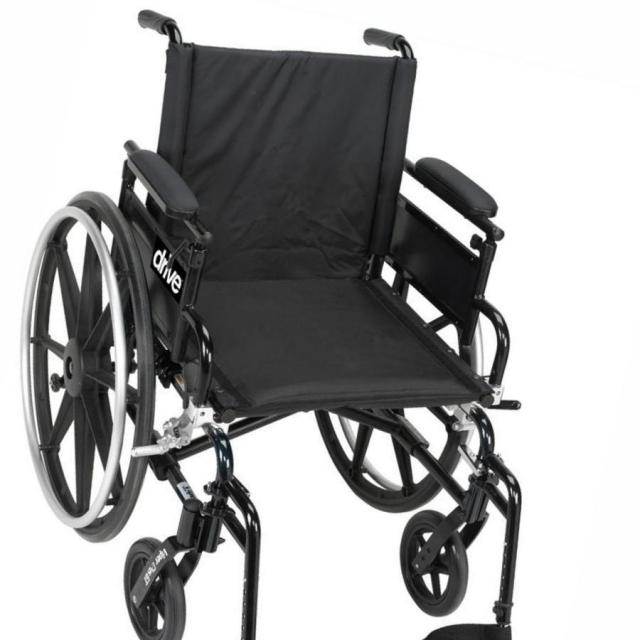wheelchair: (1, 0, 566, 640)
